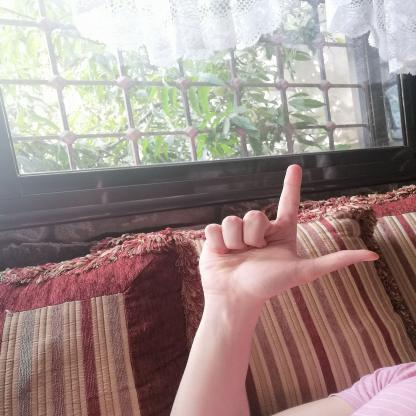LAAM: (187, 154, 389, 308)
